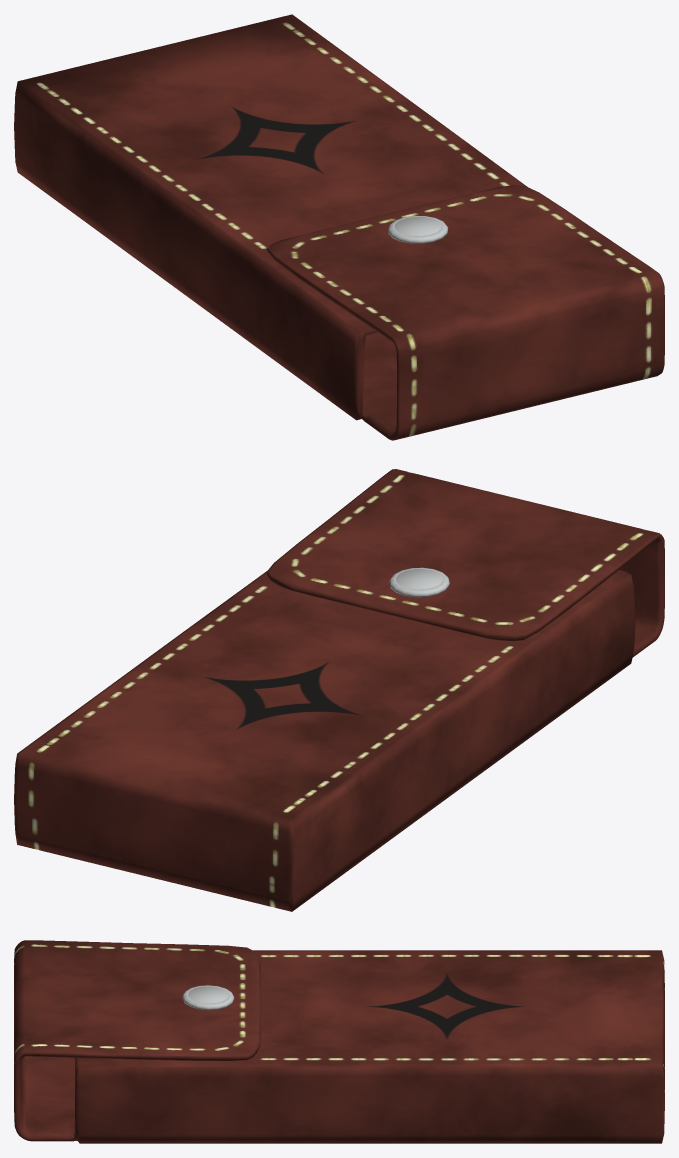
Rendered from leatherPouch.fbx.
The picture shows the model from 3 angles, top to bottom: view 1: azimuth 30°, elevation 25°; view 2: azimuth 150°, elevation 25°; view 3: azimuth 270°, elevation 25°; orthographic projection. The views are drawn at different scales.
Parts seen in each view (by area): view 1: leather pouch; view 2: leather pouch; view 3: leather pouch.
Boxes of the visible parts, <box> form: leather pouch: <box>14,14,664,440</box>; leather pouch: <box>14,469,664,911</box>; leather pouch: <box>14,940,664,1143</box>.
Bounding box in the file's own units: 126 × 45.7 × 296.
